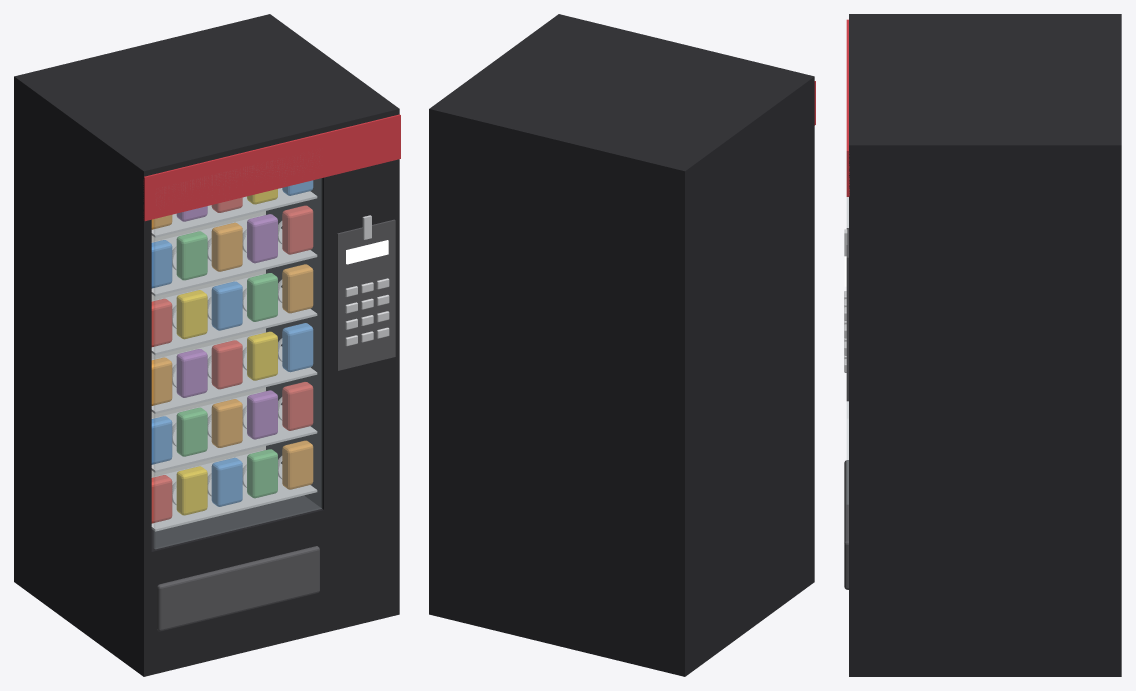
Rendered from hotel-snack-vending.glb.
The picture shows the model from 3 angles, left to right: view 1: azimuth 30°, elevation 25°; view 2: azimuth 150°, elevation 25°; view 3: azimuth 270°, elevation 25°; orthographic projection. The views are drawn at different scales.
Visible parts, largest first — view 1: cabinet, window, header, bin, keypad_panel, tray0, tray3, tray1, tray4, tray2, interior, tray5 (+26 smaller); view 2: cabinet; view 3: cabinet, bin, header, keypad_panel.
Boxes of the visible parts, x1,y1,x2,y2 form: cabinet: (14,14,399,676); window: (154,178,321,548); header: (143,114,400,221); bin: (157,546,319,631); keypad_panel: (337,219,395,370); tray0: (151,450,317,531); tray3: (151,274,317,355); tray1: (151,391,317,472); tray4: (151,215,317,296); tray2: (151,333,317,413); interior: (151,211,265,477); tray5: (151,188,317,237); cabinet: (429,14,814,676); cabinet: (849,14,1121,676); bin: (844,460,848,589); header: (846,19,849,196); keypad_panel: (846,228,848,401).
Bounding box in the file's own units: 0.98 × 1.85 × 0.875.
